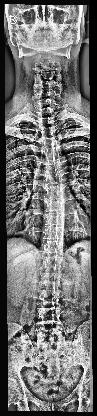Vertebrae: (36, 288, 62, 306), (36, 307, 62, 325), (38, 272, 64, 288), (42, 239, 66, 255), (40, 255, 64, 271), (36, 324, 63, 338), (43, 172, 63, 188), (43, 226, 65, 240), (45, 212, 65, 226), (45, 188, 65, 200), (45, 200, 65, 212), (42, 136, 60, 148), (44, 147, 62, 159), (44, 159, 62, 171), (38, 107, 56, 117), (40, 117, 54, 127), (42, 127, 56, 137)
